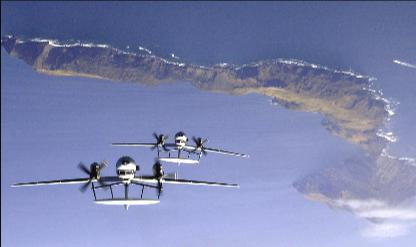C5: (9, 154, 240, 209), (110, 130, 249, 165)
